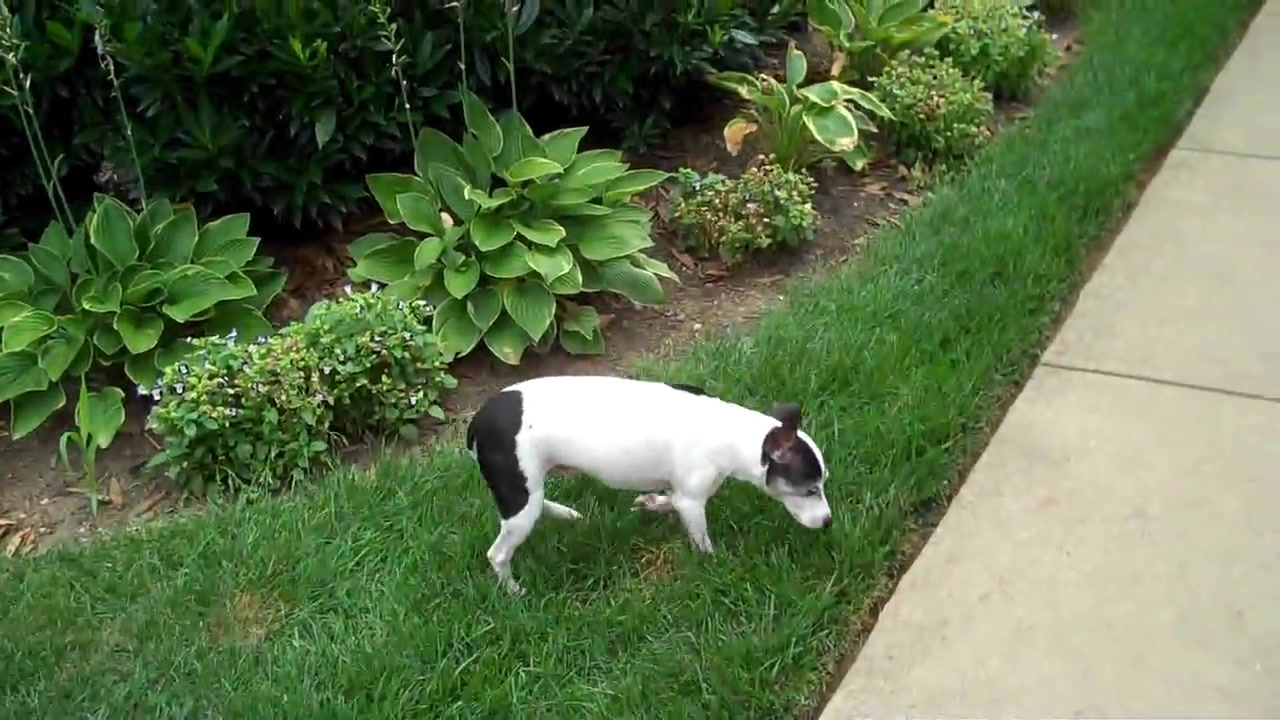dog: (465, 374, 834, 596)
